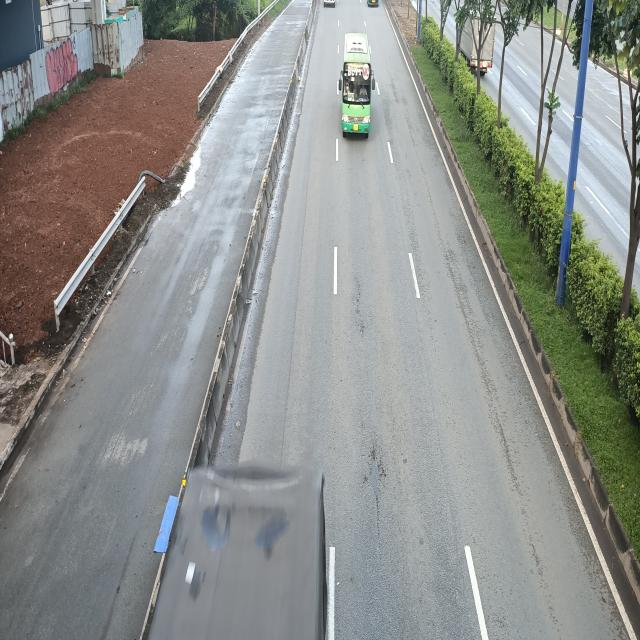coach: (338, 35, 376, 138)
